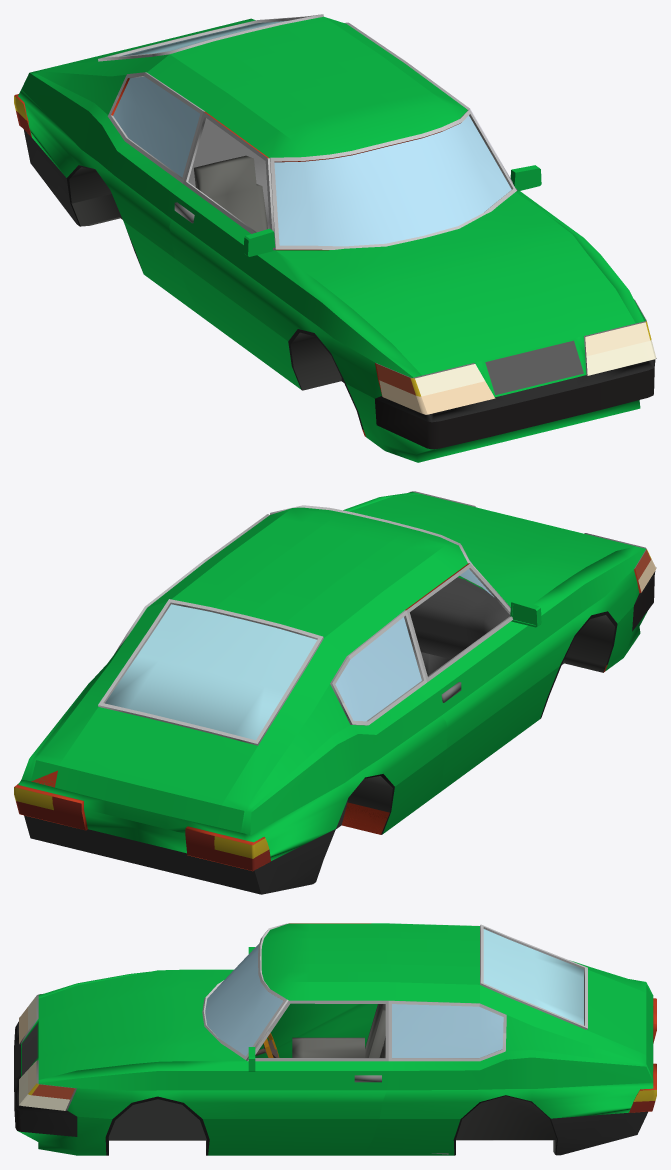
File: Turbo_Green.fbx
The picture shows the model from 3 angles, top to bottom: view 1: azimuth 30°, elevation 25°; view 2: azimuth 150°, elevation 25°; view 3: azimuth 270°, elevation 25°; orthographic projection. The views are drawn at different scales.
Parts seen in each view (by area): view 1: Chassi, Hood, Glass, Door_R, Seats, Trunk, Door_L, TrunkGlass; view 2: Chassi, Trunk, TrunkGlass, Door_R, Hood, Glass; view 3: Chassi, Hood, Door_L, Glass, TrunkGlass, Trunk, Door_R, Seats.
Part boxes in pixels (x1,y1,x2,y2): Chassi: (14, 16, 656, 462); Hood: (276, 192, 635, 375); Glass: (113, 76, 511, 246); Door_R: (169, 111, 278, 372); Seats: (194, 155, 267, 232); Trunk: (63, 14, 323, 64); Door_L: (405, 62, 541, 195); TrunkGlass: (120, 21, 286, 56); Chassi: (14, 491, 656, 894); Trunk: (55, 599, 323, 826); TrunkGlass: (105, 604, 316, 740); Door_R: (405, 563, 541, 791); Hood: (349, 494, 634, 607); Glass: (335, 560, 493, 721); Chassi: (14, 923, 656, 1155); Hood: (38, 969, 246, 1079); Door_L: (242, 1000, 388, 1155); Glass: (205, 944, 503, 1057); TrunkGlass: (483, 929, 583, 1025); Trunk: (480, 924, 652, 1068); Door_R: (248, 923, 377, 1057); Seats: (292, 1004, 385, 1057).
Size of the model in its own units: 2.14 by 1.42 by 5.18.
